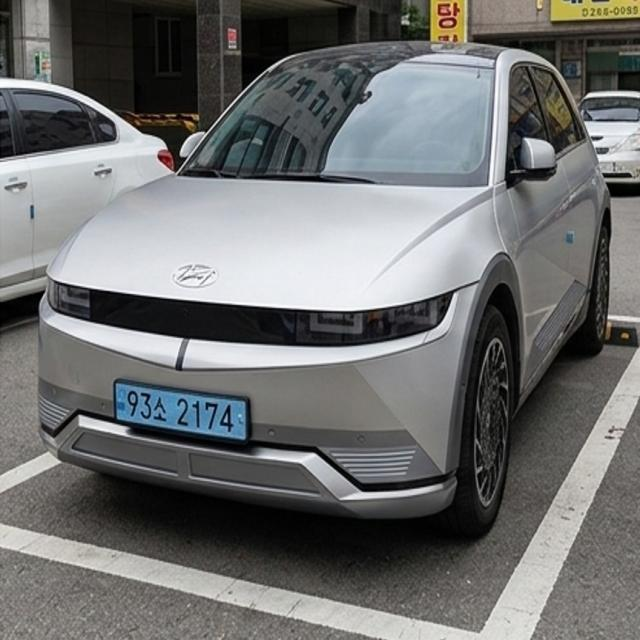car: (97, 370, 284, 458)
carev: (235, 383, 256, 446), (112, 377, 128, 431)
